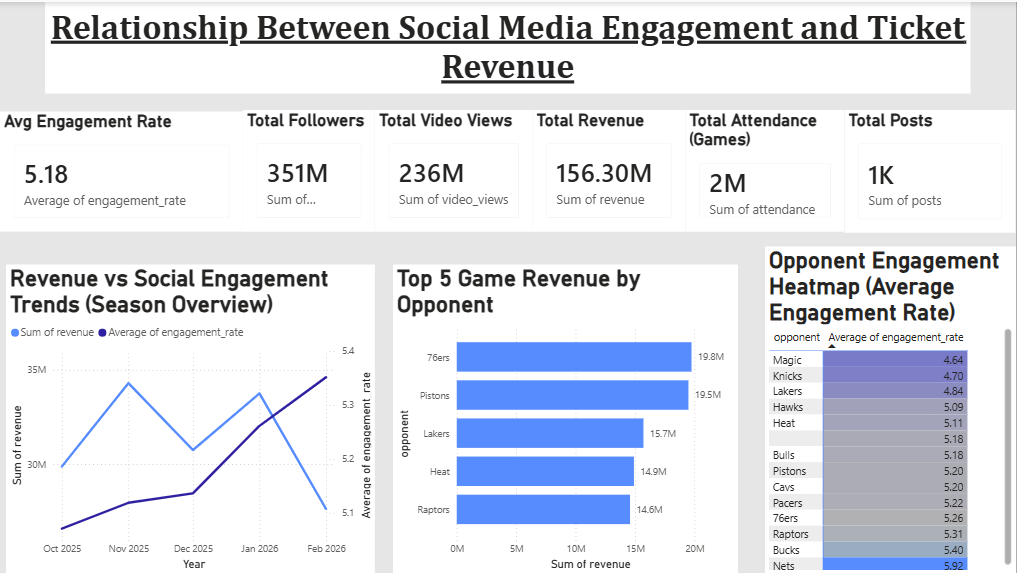

The page's visual inventory and layout, read from the dashboard file:
{"tool":"tableau","page":{"name":"Dashboard 1","canvas":[1200,800],"ordinal":0},"visuals":[{"type":"title","box":[8,8,1184,65]},{"type":"worksheet","title":"Sheet 5","mark":"Automatic","box":[8,73,394.7,237]},{"type":"worksheet","title":"Sheet 4","mark":"Automatic","box":[402.7,73,394.7,237]},{"type":"worksheet","title":"Sheet 3","mark":"Automatic","box":[797.3,73,394.7,237]},{"type":"worksheet","title":"Sheet 1","mark":"Automatic","rows":["Calculation_725361069867610118"],"cols":["DAY_OF_WEEK"],"box":[8,310,432,482]},{"type":"worksheet","title":"Sheet 2","mark":"Square","rows":["OPPONENT"],"box":[440,310,392,482]},{"type":"worksheet","title":"Sheet 6","mark":"Automatic","rows":["MONTH"],"cols":["Calculation_725361069867610118"],"box":[832,310,360,482]}]}

Visuals, with their boxes on the page's 1200x800 design canvas (x1, y1, x2, y2). These are canvas units, not pixel positions in the 1017x573 screenshot, which may show the page scaled, cropped or inside an application window:
title: crop(8, 8, 1192, 73)
"Sheet 5" worksheet: crop(8, 73, 403, 310)
"Sheet 4" worksheet: crop(403, 73, 797, 310)
"Sheet 3" worksheet: crop(797, 73, 1192, 310)
"Sheet 1" worksheet: crop(8, 310, 440, 792)
"Sheet 2" worksheet (Square marks): crop(440, 310, 832, 792)
"Sheet 6" worksheet: crop(832, 310, 1192, 792)
